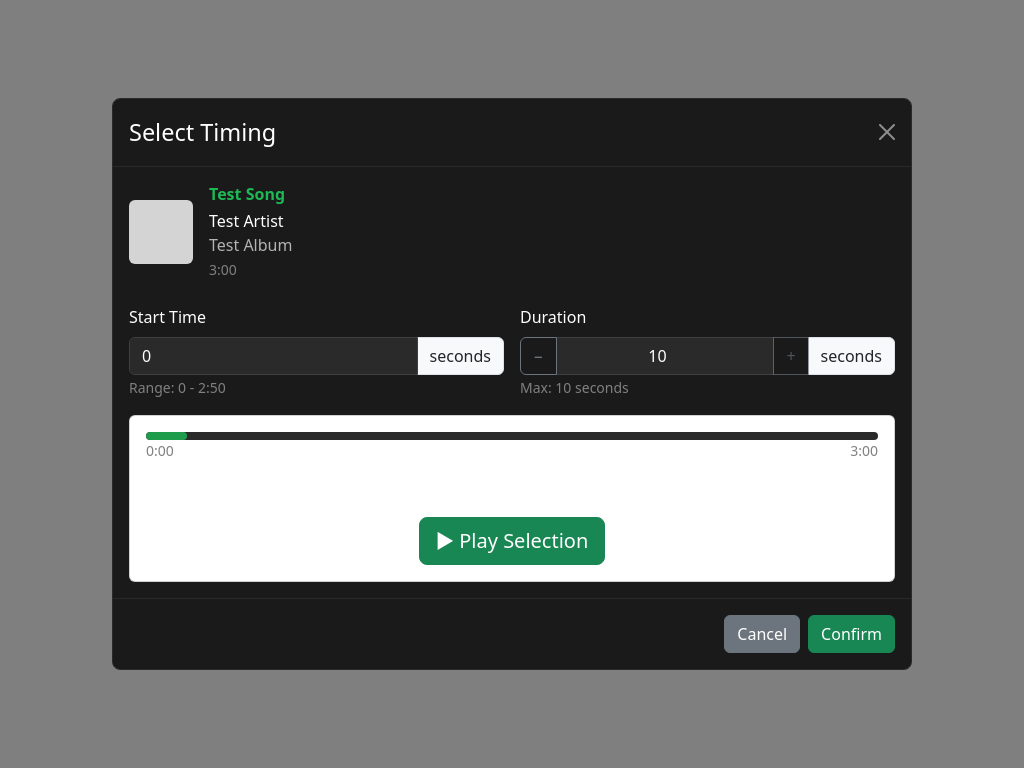
Test case: SegmentSelector › should clear timeout when manually stopping playback
Step 1. Click the button "▶ Play Selection" → click(512, 541), box [419,517,605,565]
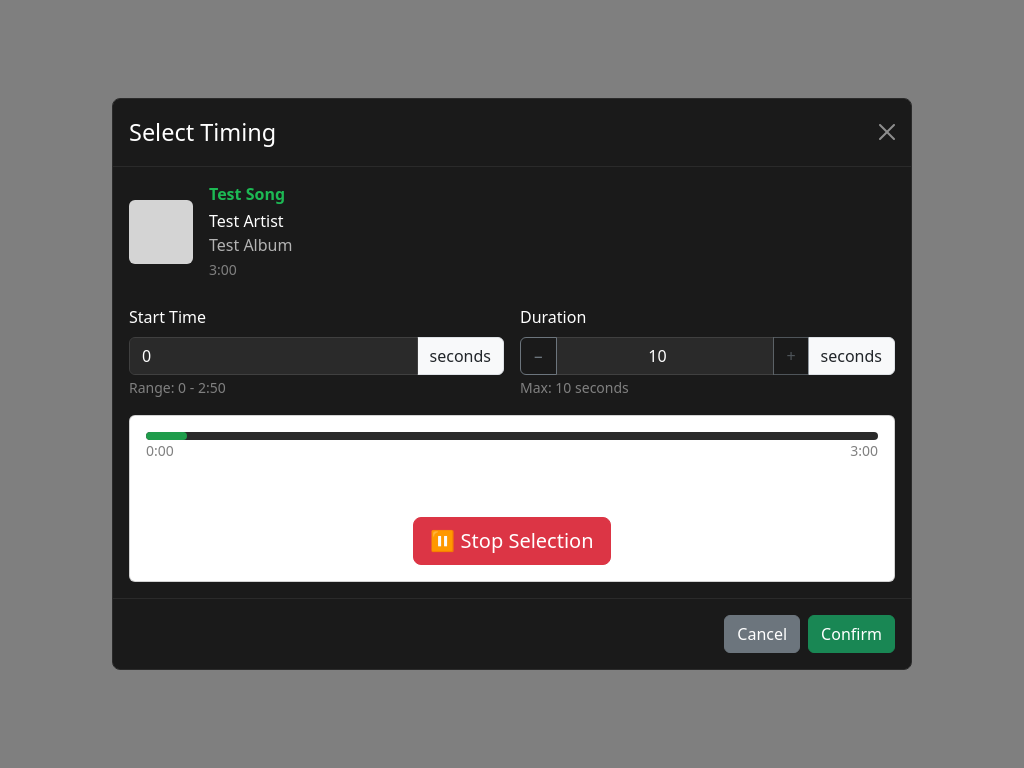
Result: the button "⏸ Stop Selection" is shown
Step 2. Click the button "⏸ Stop Selection" → click(512, 541), box [413,517,610,565]
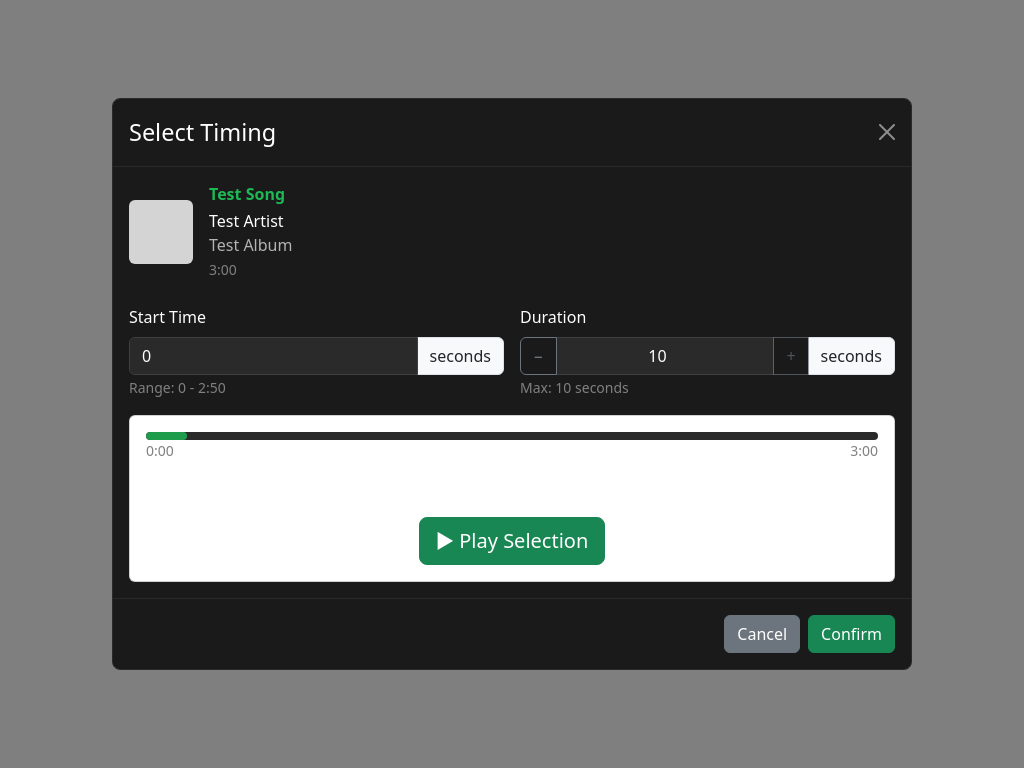
Result: the button "▶ Play Selection" is shown at [419,517,605,565]
